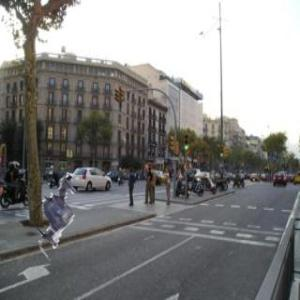drone: (16, 170, 103, 257)
